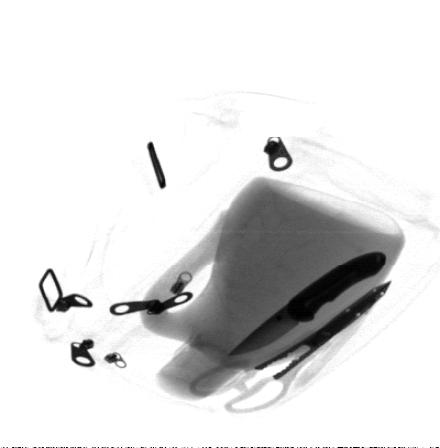Knife: (226, 250, 389, 357)
Scissors: (189, 280, 392, 415)
